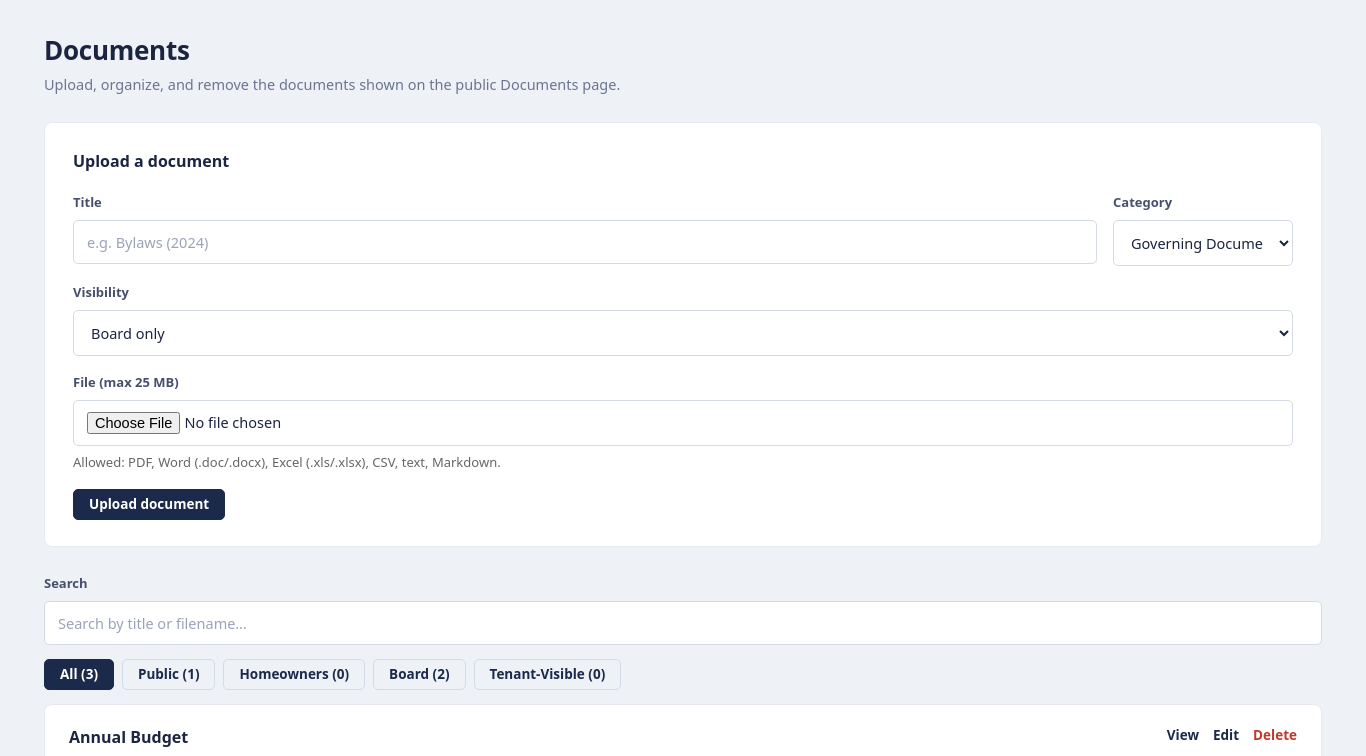
Test: DocumentsManager search › narrows the list to documents whose title matches the query
Expected: the text "Annual Budget" is shown, [69,726,188,748]
Type "bylaws" into the search field with placeholder "Search by title or filename…".
click(683, 623); type("bylaws")  # box [44,601,1322,645]
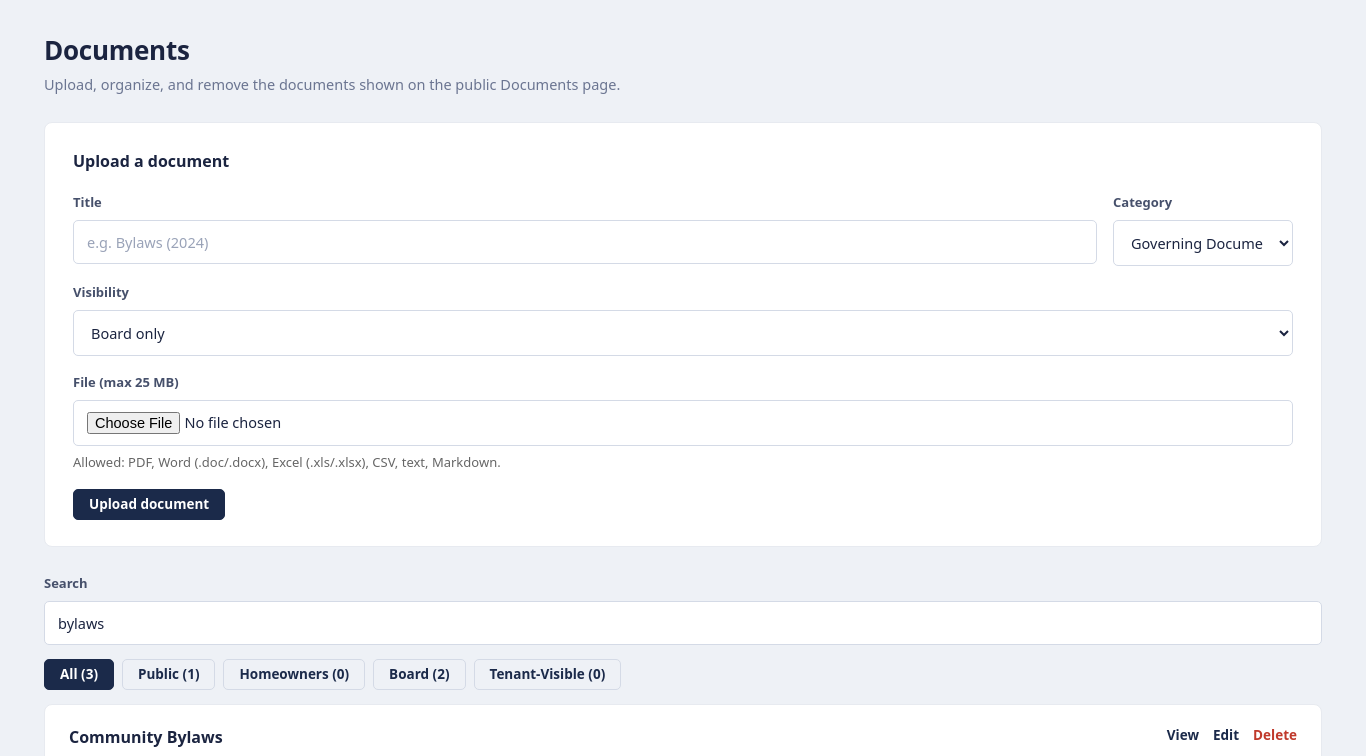
Expected: the text "Community Bylaws" is shown, [69,726,223,748]
Now the text "Annual Budget" is gone
